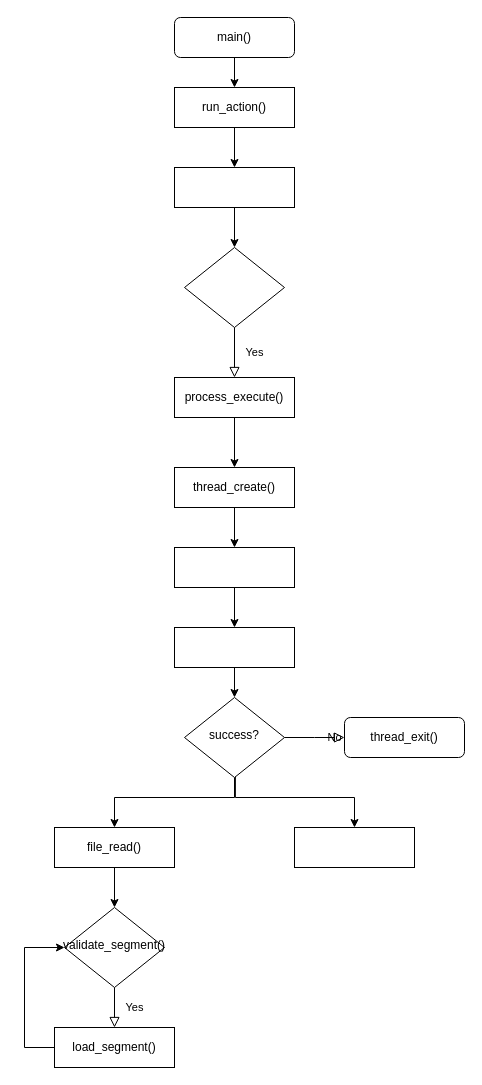
This 482x1085 diagram has some shape labels left out. Here are the shapes that lost their labels. From the top down, the centre of each, then its label:
At [234,187]: "run_task()".
At [234,287]: "Is user program?".
At [234,567]: "start_process()".
At [234,647]: "load()".
At [354,847]: "setup_stack()".
